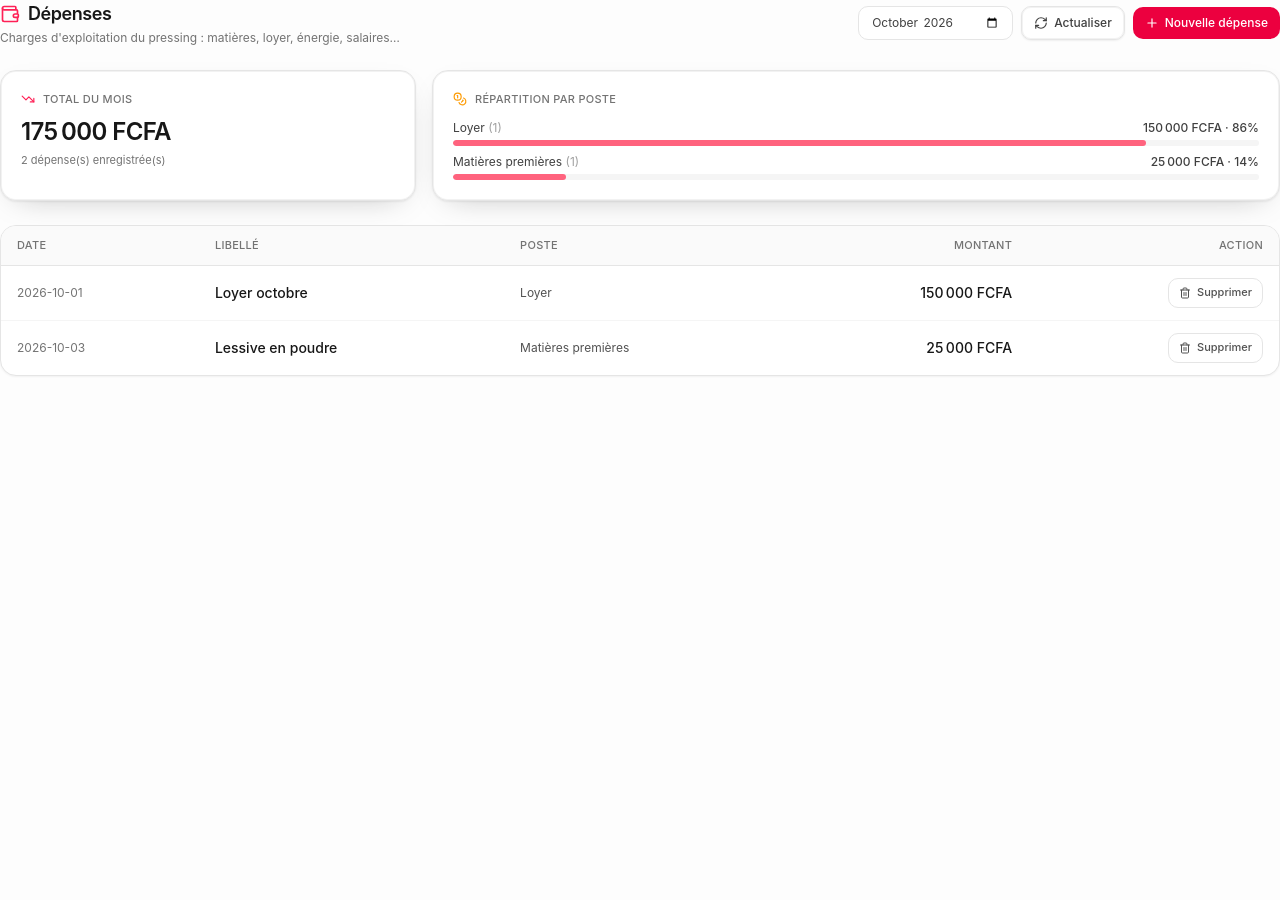
Test: ExpensesView › explique que le module est réservé aux formules payantes (402)
Expected: the text "Loyer octobre" is shown, [215,284,308,301]
Click the button "Nouvelle dépense" at (1206,23), box [1133,7,1279,39]
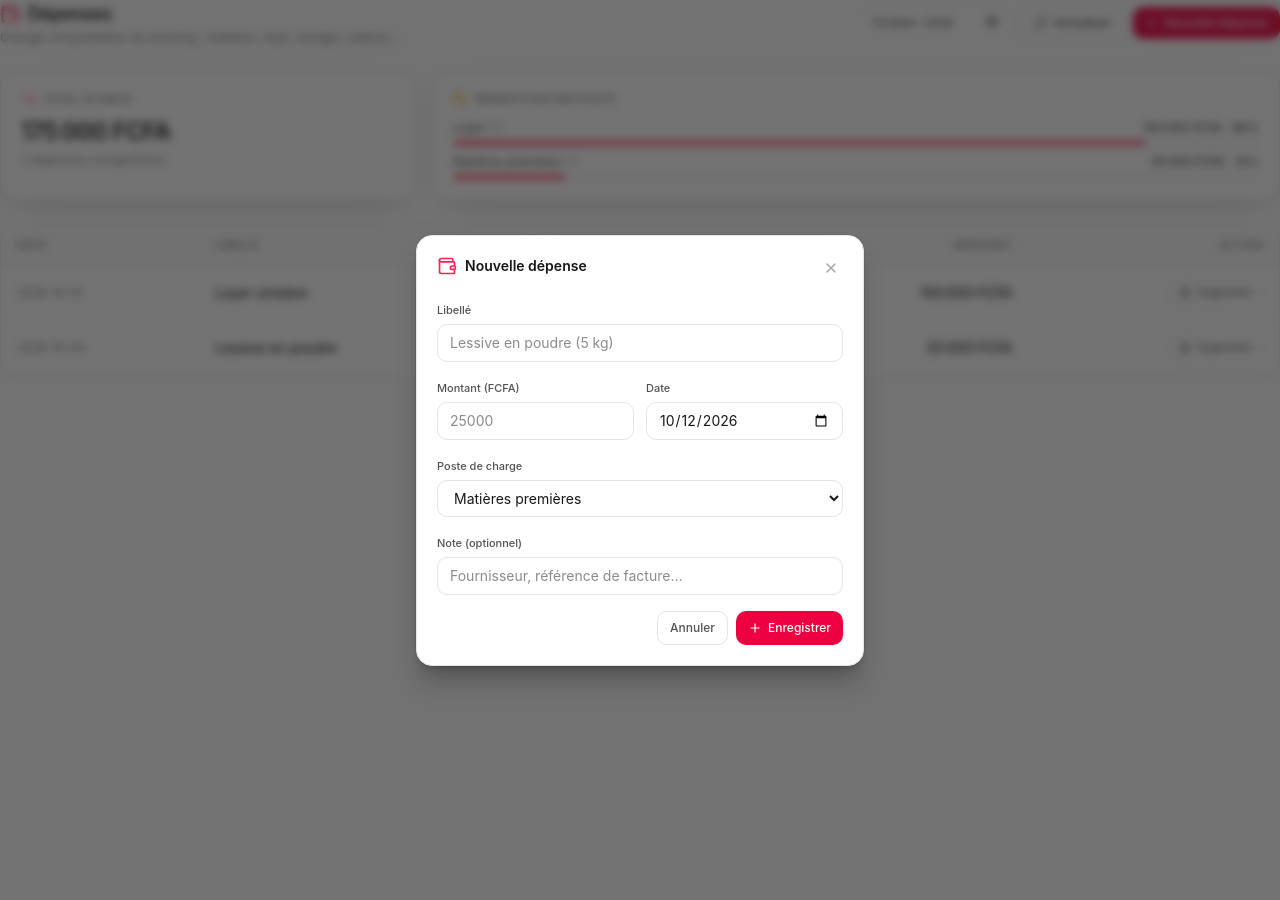
Type "Loyer novembre" into the field with placeholder "Lessive en poudre (5 kg)" at (640,342), box [437,324,843,362]
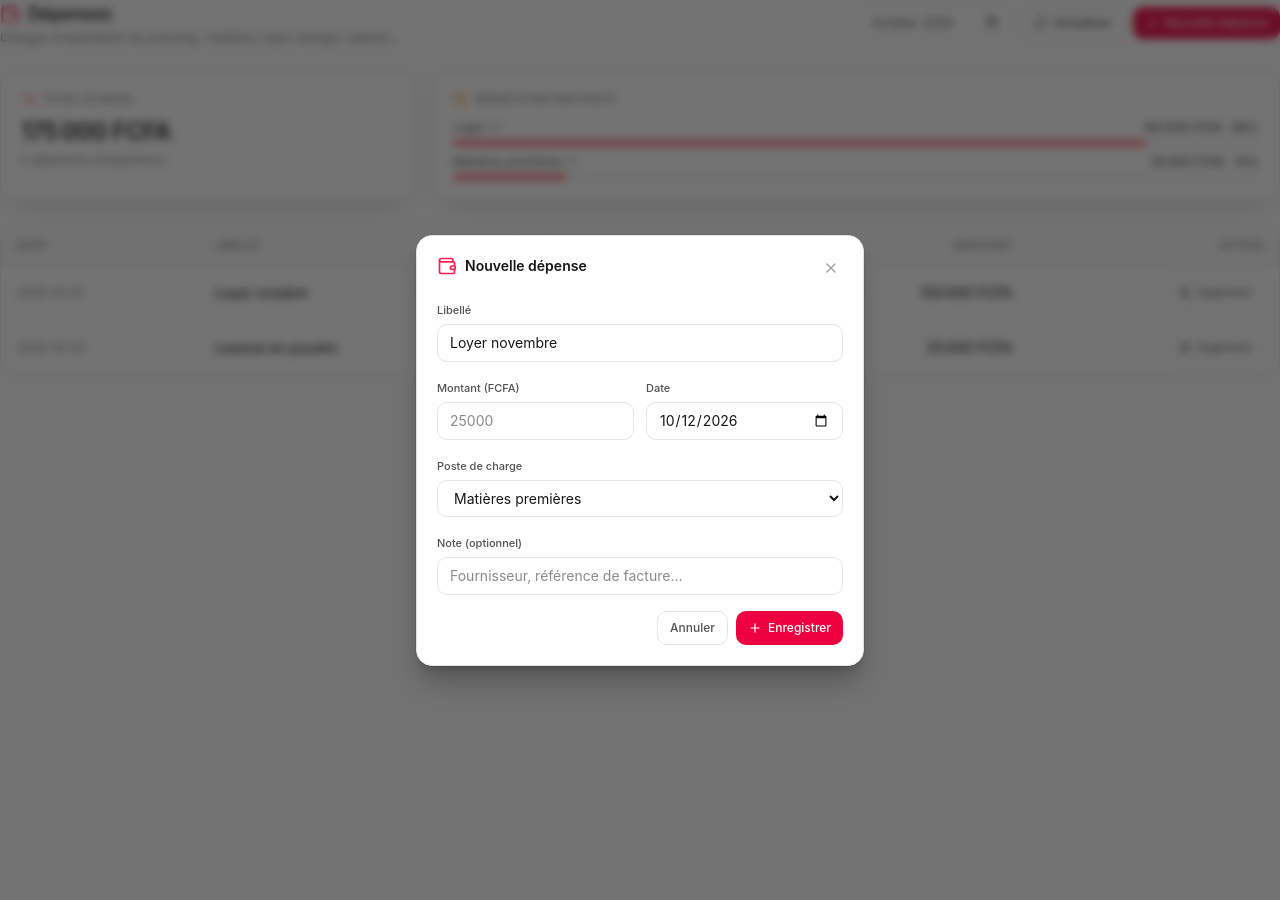
Type "150000" into the number field with placeholder "25000" at (536,420), box [437,402,634,440]
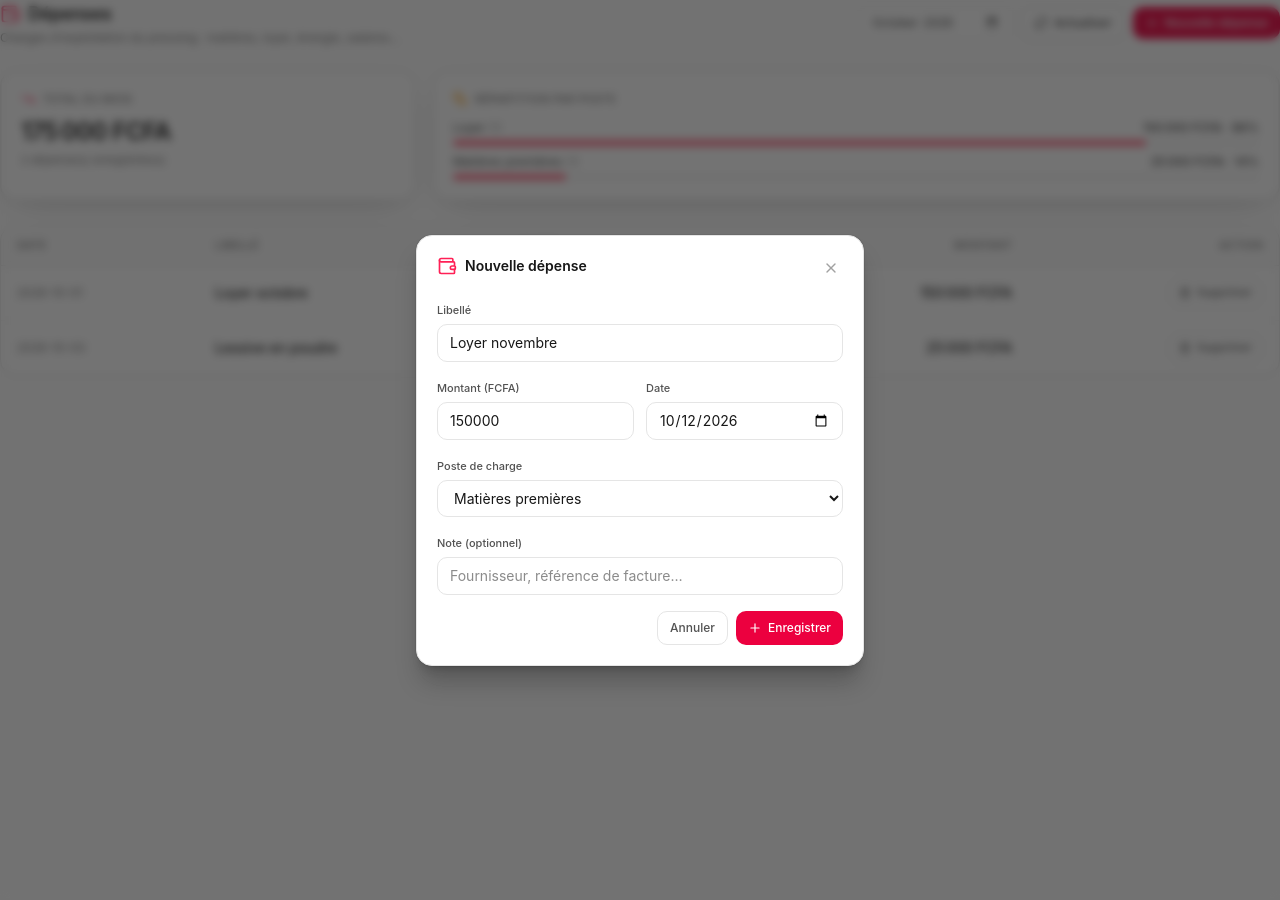
Click the button "Enregistrer" at (790,628), box [736,610,843,644]
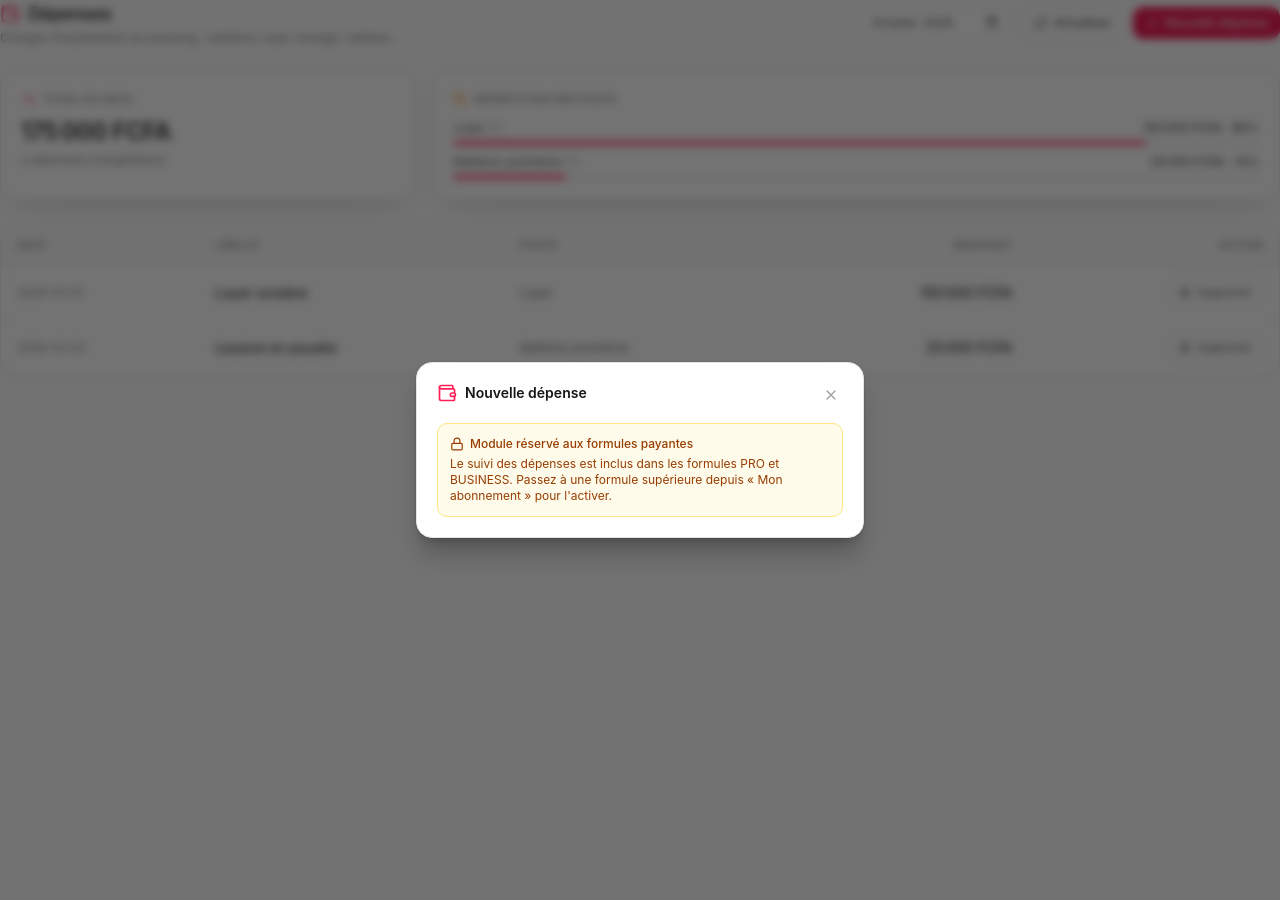
Expected: the text "Module réservé aux formules payantes" is shown, [450,436,693,451]
